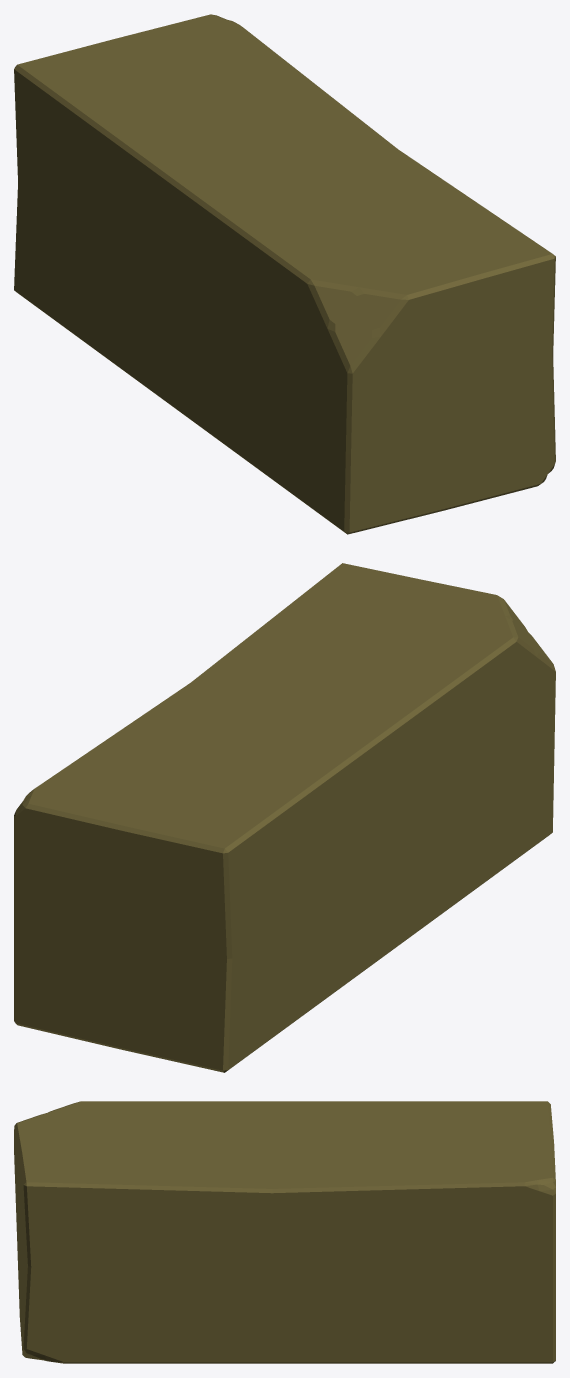
Rendered from brick.fbx.
3 renders of one model, top to bottom at view 1: azimuth 30°, elevation 25°; view 2: azimuth 150°, elevation 25°; view 3: azimuth 270°, elevation 25°, orthographic. The views are drawn at different scales.
Visible parts, largest first — view 1: Brick; view 2: Brick; view 3: Brick.
Boxes of the visible parts, <box> form: Brick: <box>14,14,555,534</box>; Brick: <box>14,563,555,1072</box>; Brick: <box>14,1101,555,1363</box>.
Size of the model in its own units: 32.58 by 33.1 by 89.52.
